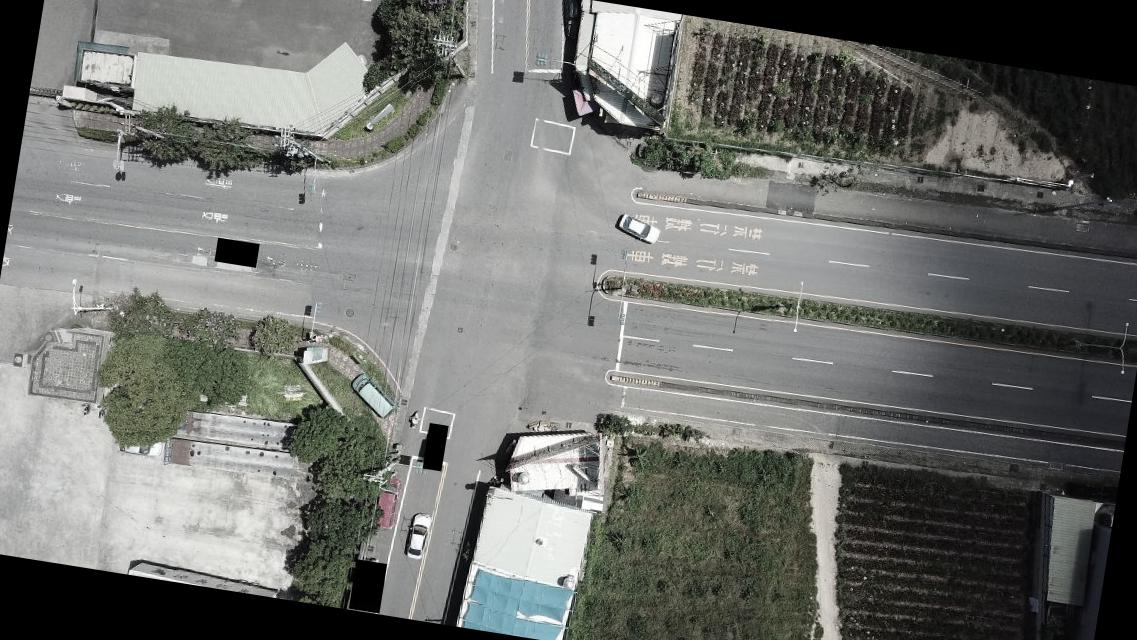vehicle: (344, 370, 396, 420), (612, 213, 662, 246), (373, 474, 402, 530), (403, 514, 434, 562), (113, 433, 164, 460), (561, 0, 586, 41)
